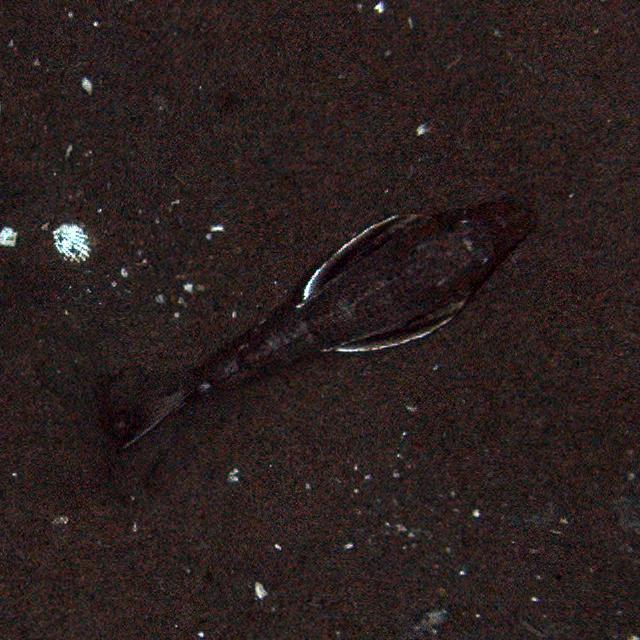roundfish: (98, 186, 541, 492)
